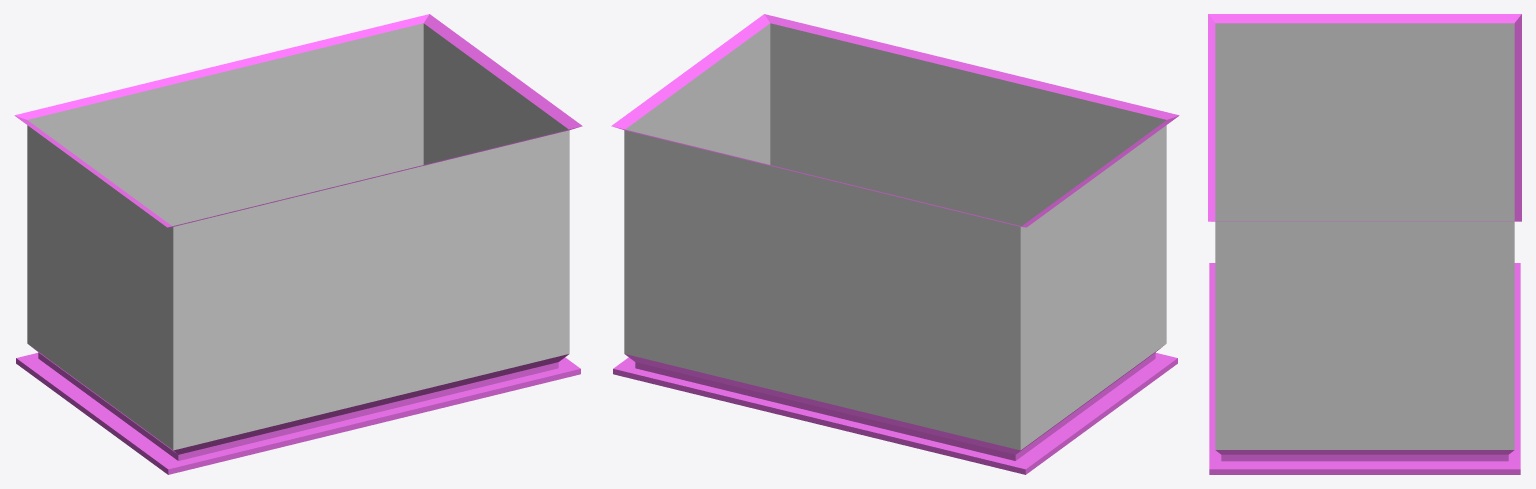
File: Fishtank.glb
3 views of the same model, side by side, from view 1: azimuth 30°, elevation 25°; view 2: azimuth 150°, elevation 25°; view 3: azimuth 270°, elevation 25° (orthographic). The views are drawn at different scales.
Parts seen in each view (by area): view 1: Plane; view 2: Plane; view 3: Plane.
Boxes of the visible parts, box(x1,y1,x2,y2) form: Plane: box(14, 14, 582, 474); Plane: box(611, 14, 1179, 474); Plane: box(1208, 14, 1521, 474).
Bounding box in the file's own units: 11.37 × 6.49 × 7.26.
